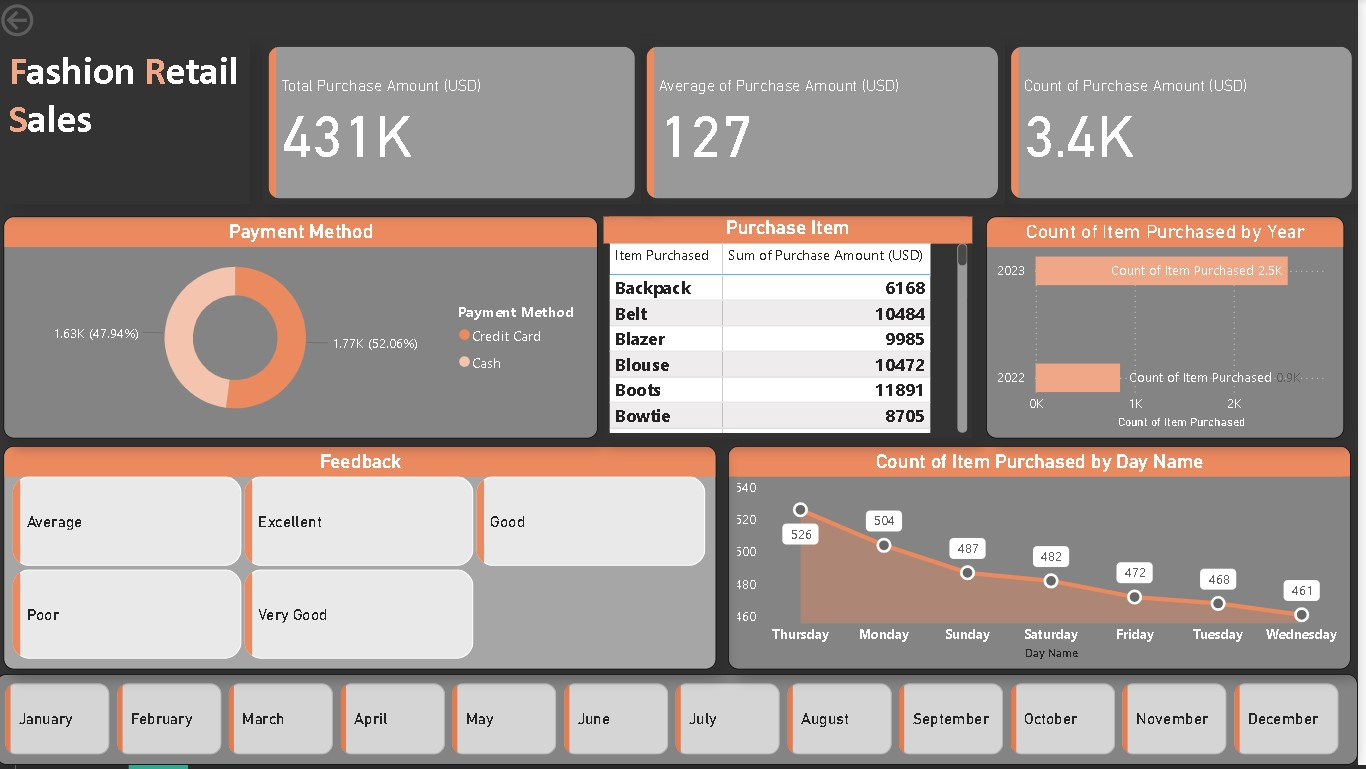

This screenshot's page, from the dashboard's own definition file:
{"tool":"powerbi","page":{"name":"Page 1","canvas":[1280,720],"ordinal":0},"visuals":[{"type":"advancedSlicerVisual","fields":{"Values":["Fashion_Retail_Sales.Dates.Variation.Date Hierarchy.Month"]},"box":[0,635,1280,85],"z":0},{"type":"lineChart","title":"Count of Item Purchased by Day Name","fields":{"Category":["Fashion_Retail_Sales.Day Name"],"Y":["CountNonNull(Fashion_Retail_Sales.Item Purchased)"]},"box":[664.1,420.2,609.1,210.1],"z":1000},{"type":"advancedSlicerVisual","fields":{"Values":["Fashion_Retail_Sales.Feedback"]},"box":[7,420.2,645.8,208.7],"z":3000},{"type":"donutChart","title":" Payment Method","fields":{"Category":["Fashion_Retail_Sales.Payment Method"],"Y":["CountNonNull(Fashion_Retail_Sales.Payment Method)"]},"box":[6.4,202.9,560.8,209.3],"z":4000},{"type":"tableEx","title":"Purchase Item ","fields":{"Values":["Fashion_Retail_Sales.Item Purchased","Sum(Fashion_Retail_Sales.Purchase Amount (USD))"]},"box":[586.3,204.5,332.3,209.3],"z":5000},{"type":"cardVisual","fields":{"Data":["Sum(Fashion_Retail_Sales.Purchase Amount (USD))"]},"box":[251.7,40,355,153.3],"z":6000},{"type":"cardVisual","fields":{"Data":["Avg(Fashion_Retail_Sales.Purchase Amount (USD))"]},"box":[606.7,40,341.7,153.3],"z":7000},{"type":"clusteredBarChart","fields":{"Category":["Fashion_Retail_Sales.Dates.Variation.Date Hierarchy.Year"],"Y":["CountNonNull(Fashion_Retail_Sales.Item Purchased)"]},"box":[930,205,336.7,208.3],"z":8000},{"type":"cardVisual","fields":{"Data":["CountNonNull(Fashion_Retail_Sales.Purchase Amount (USD))"]},"box":[948.3,40,331.7,153.3],"z":9000},{"type":"textbox","box":[6.7,40,231.7,153.3],"z":10000}]}

Visuals, with their boxes in screenshot pixels (x1, y1, x2, y2), scaled from the page's 1280x720 canvas onto the 1366x769 screenshot:
advancedSlicerVisual - Fashion_Retail_Sales.Dates.Variation.Date Hierarchy.Month: (0,678,1365,768)
"Count of Item Purchased by Day Name" lineChart: (709,449,1359,673)
advancedSlicerVisual - Fashion_Retail_Sales.Feedback: (7,449,697,672)
" Payment Method" donutChart: (7,217,605,440)
"Purchase Item " tableEx: (626,218,980,442)
cardVisual - Sum(Fashion_Retail_Sales.Purchase Amount (USD)): (269,43,647,206)
cardVisual - Avg(Fashion_Retail_Sales.Purchase Amount (USD)): (647,43,1012,206)
clusteredBarChart - Fashion_Retail_Sales.Dates.Variation.Date Hierarchy.Year x CountNonNull(Fashion_Retail_Sales.Item Purchased): (992,219,1352,441)
cardVisual - CountNonNull(Fashion_Retail_Sales.Purchase Amount (USD)): (1012,43,1365,206)
textbox: (7,43,254,206)
